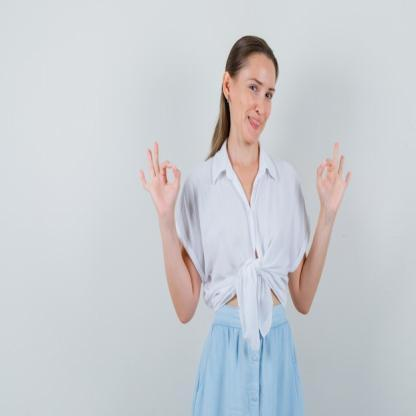ok: (136, 139, 184, 221), (312, 138, 354, 220)
